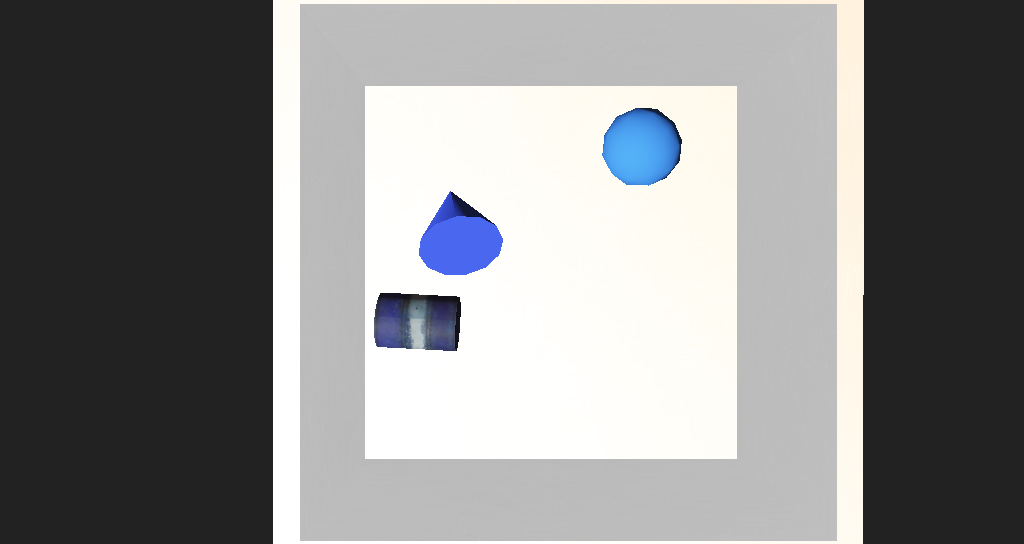cone: (360, 277, 435, 315)
cylinder: (374, 196, 475, 272)
sphere: (549, 179, 610, 222)
